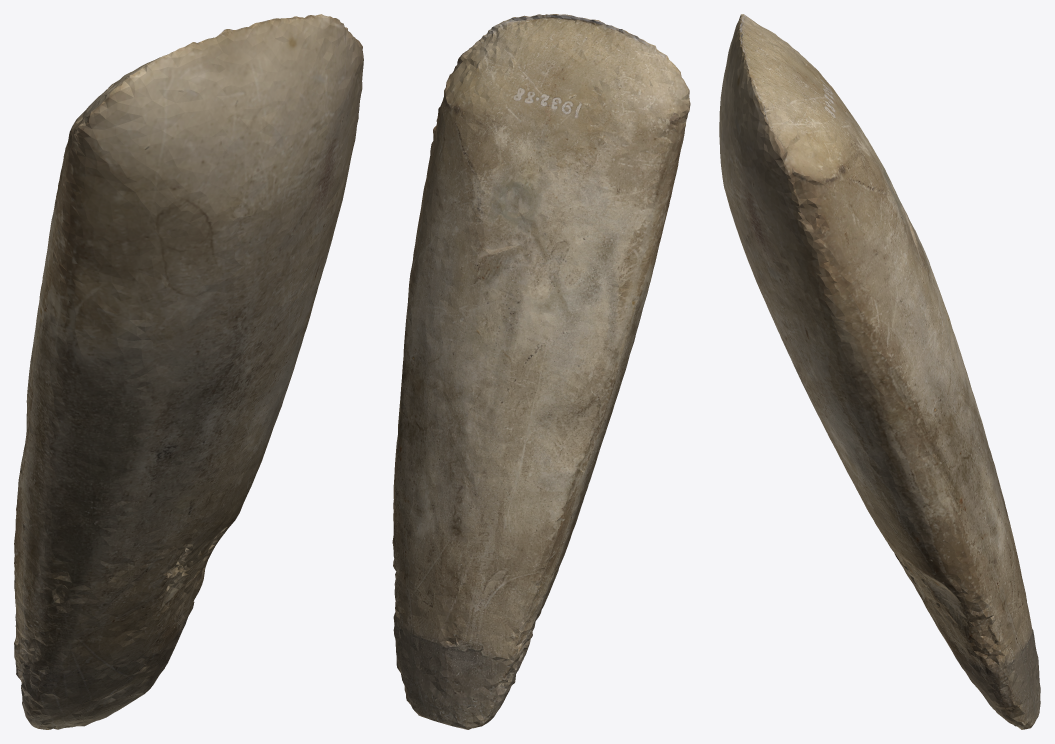
Rendered from polished_axe_stone_1.dae.
The picture shows the model from 3 angles, left to right: view 1: azimuth 30°, elevation 25°; view 2: azimuth 150°, elevation 25°; view 3: azimuth 270°, elevation 25°; orthographic projection. The views are drawn at different scales.
Visible parts, largest first — view 1: node; view 2: node; view 3: node.
Boxes of the visible parts, x1,y1,x2,y2 form: node: [14, 14, 363, 729]; node: [392, 14, 690, 729]; node: [719, 14, 1040, 729].
Bounding box in the file's own units: 1.09 × 2.76 × 1.19.
1 material, 1 textured.
